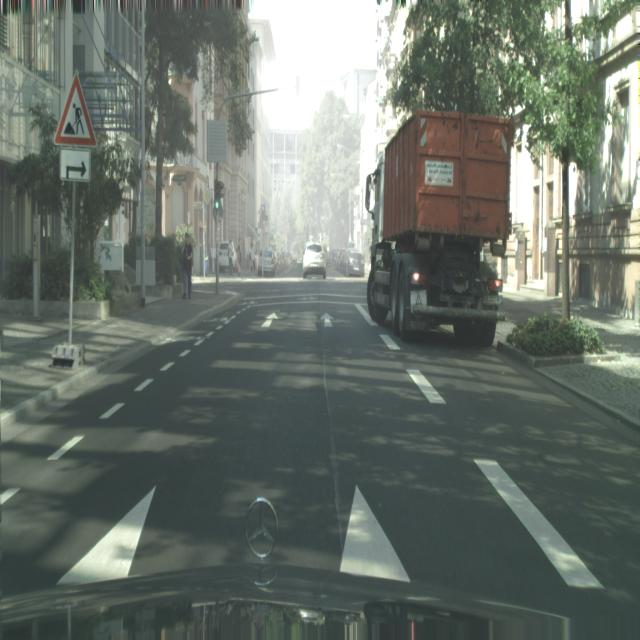person: (181, 232, 193, 300)
rider: (365, 108, 513, 348)
truck: (302, 242, 327, 279), (218, 241, 236, 275), (344, 248, 364, 277), (256, 248, 276, 277)
